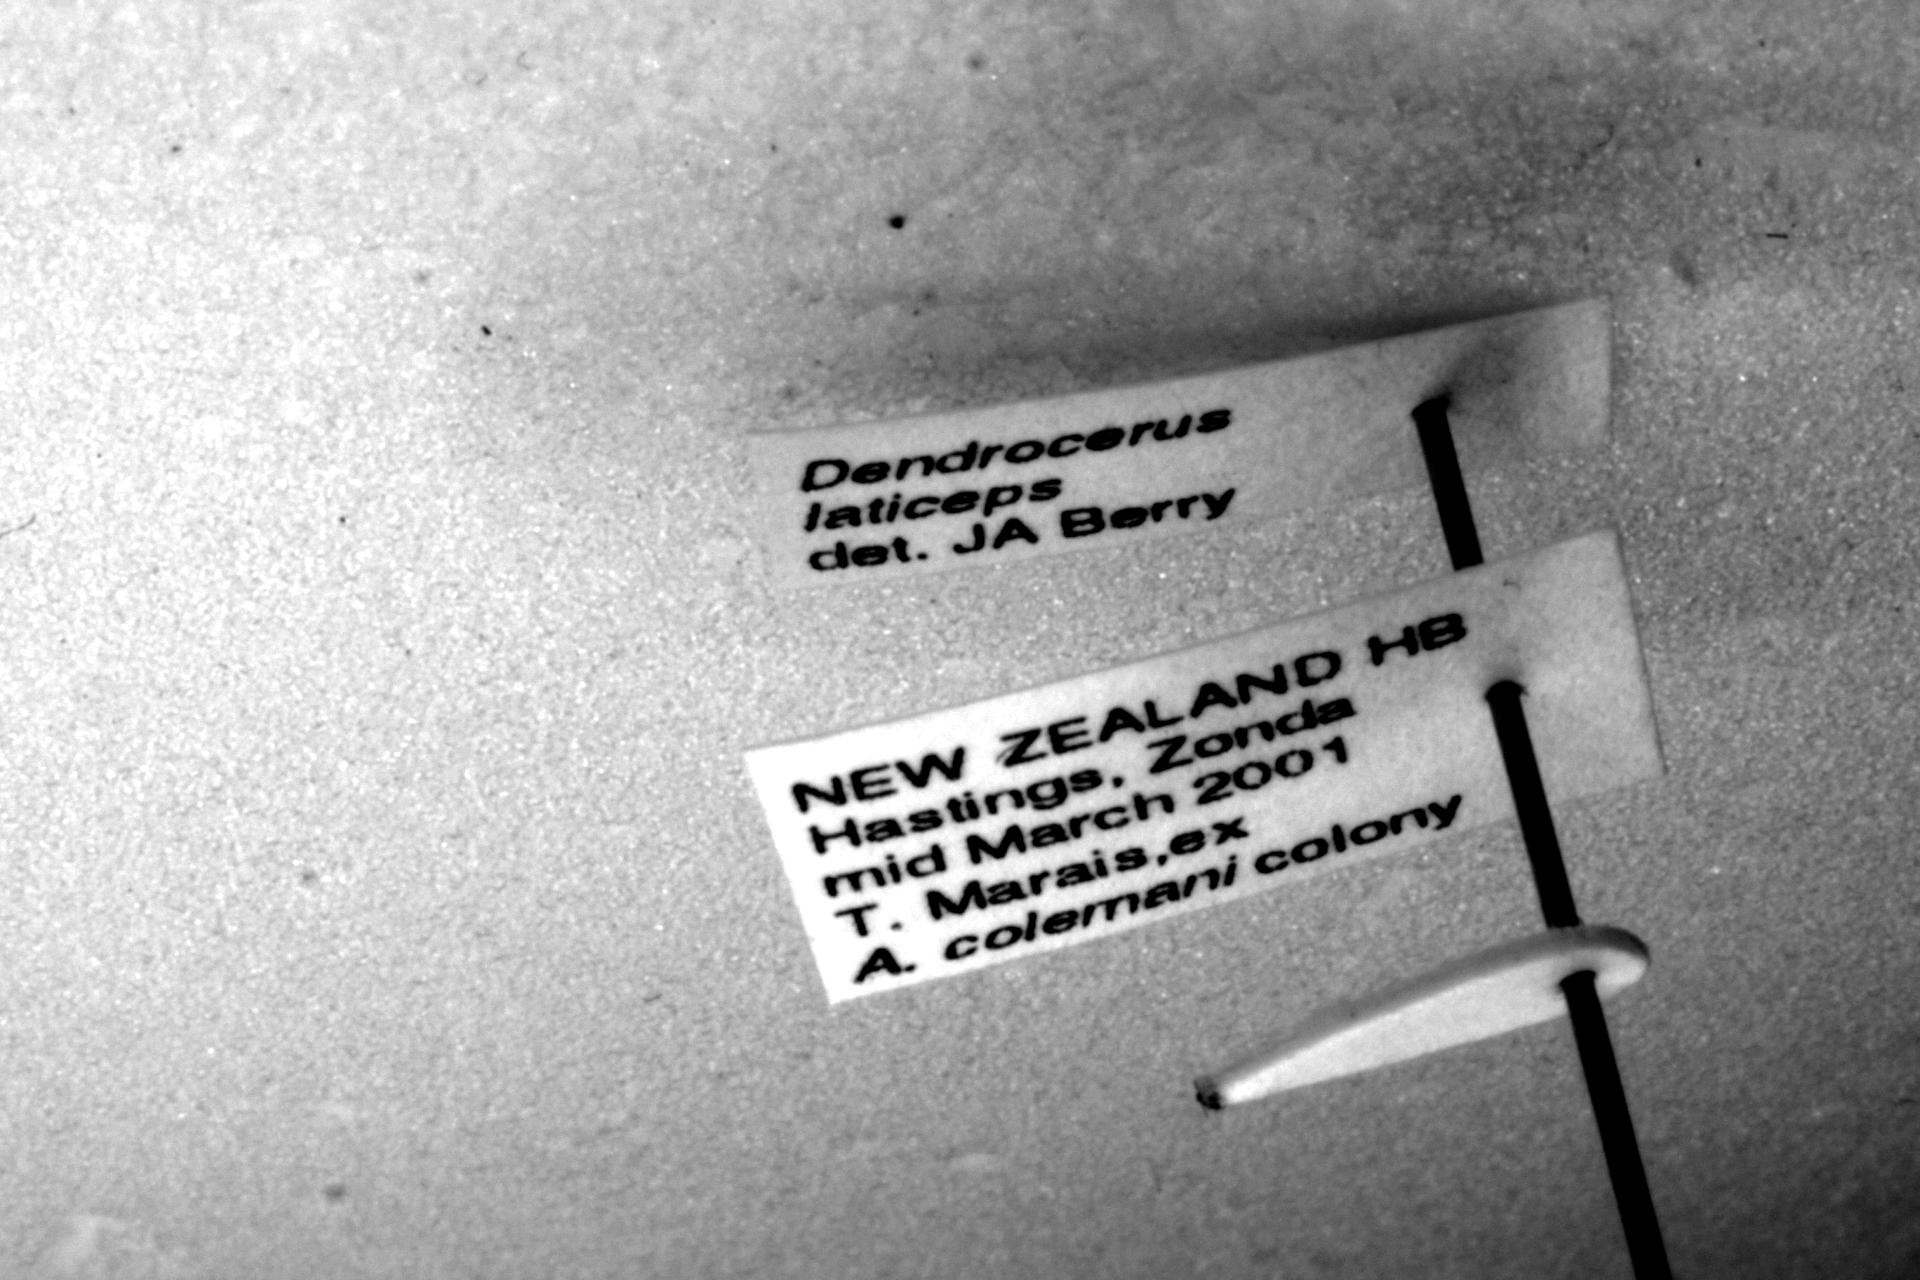typed_label: (746, 529, 1661, 1001), (750, 300, 1613, 586)
